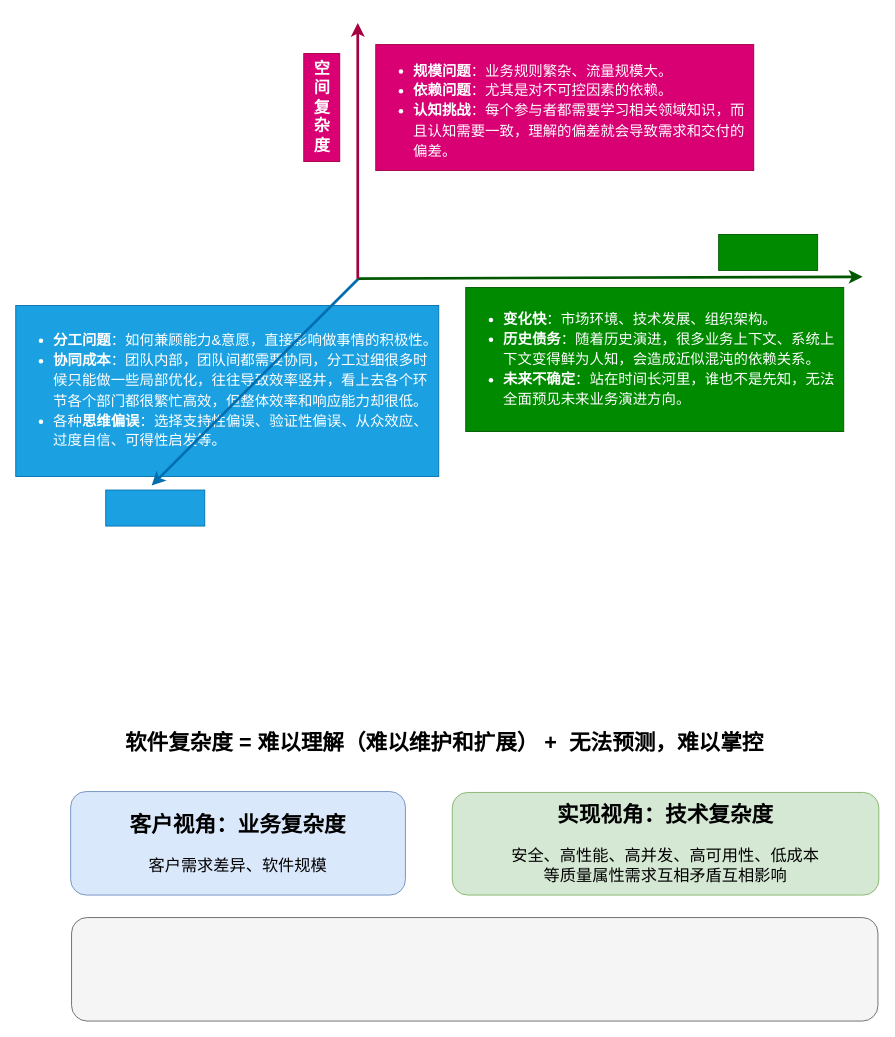
Some shapes in this 895 by 1037 pixel diagram are drawn without their labels. The shapes that lost their labels are listed below. From the top down, each one's centre as x and y in pixels, then its label:
At pixel 768 252: "时间复杂度".
At pixel 155 507: "人员复杂度".
At pixel 474 969: "协作视角：项目管理复杂度 有限的资源和时间限制下，确保项目成功，沟通成本大。".
